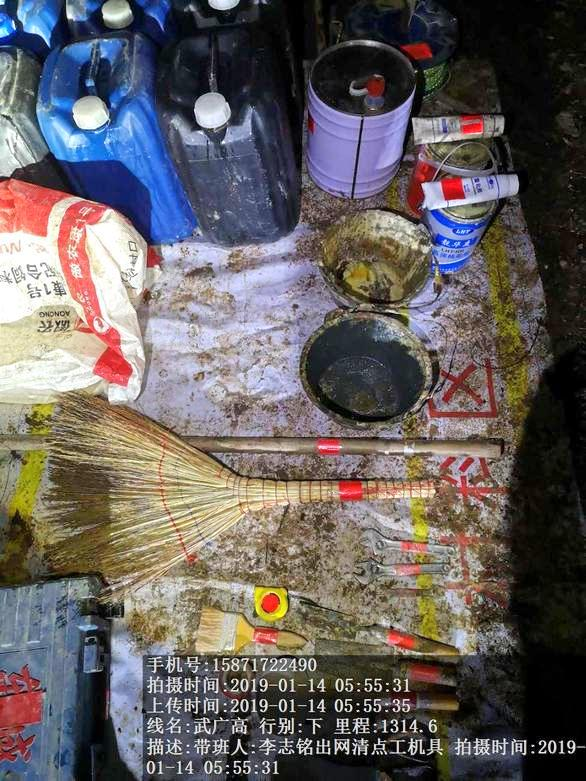SB: (36, 407, 453, 573)
SLT: (155, 36, 310, 245), (28, 43, 157, 214)
SNT: (293, 305, 458, 432), (305, 209, 440, 307)
